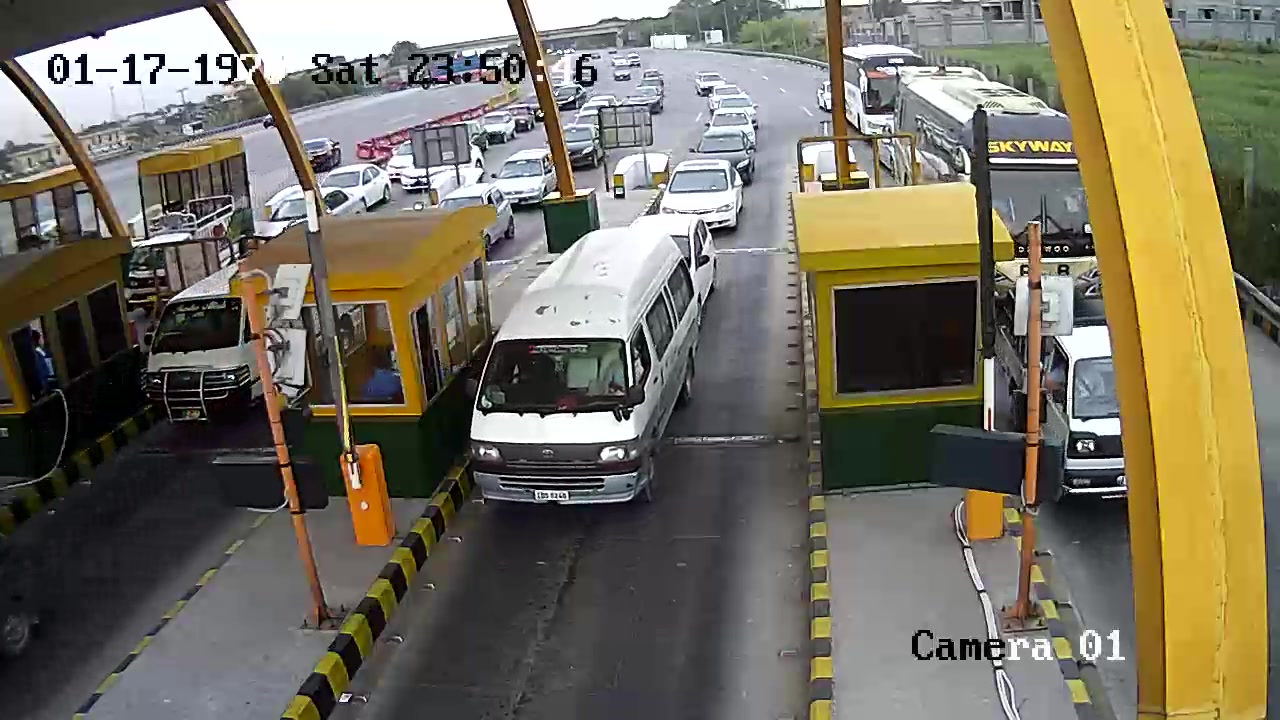F3: (468, 224, 719, 518)
